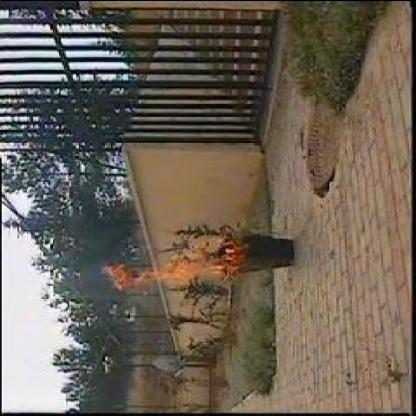-: (68, 242, 100, 299)
foggia-v2-map80-epoch100 - v1 4323: (110, 235, 236, 289)
